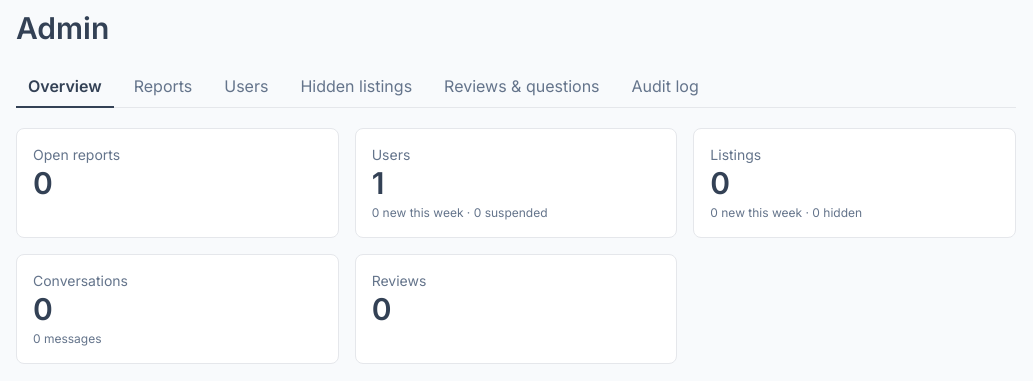
Scenario: Admin page › switches tabs
Click the tab "Reports": click(163, 87) [122,66,204,108]
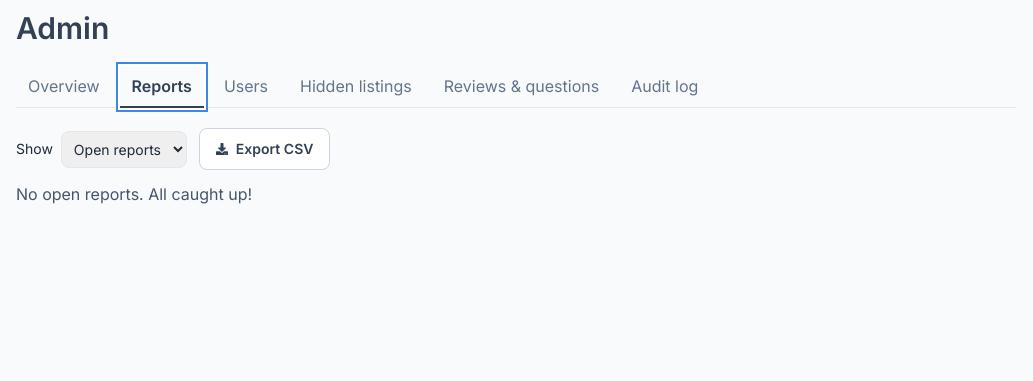
Check: the text "No open reports. All caught up!" is shown, box [16,184,252,204]
